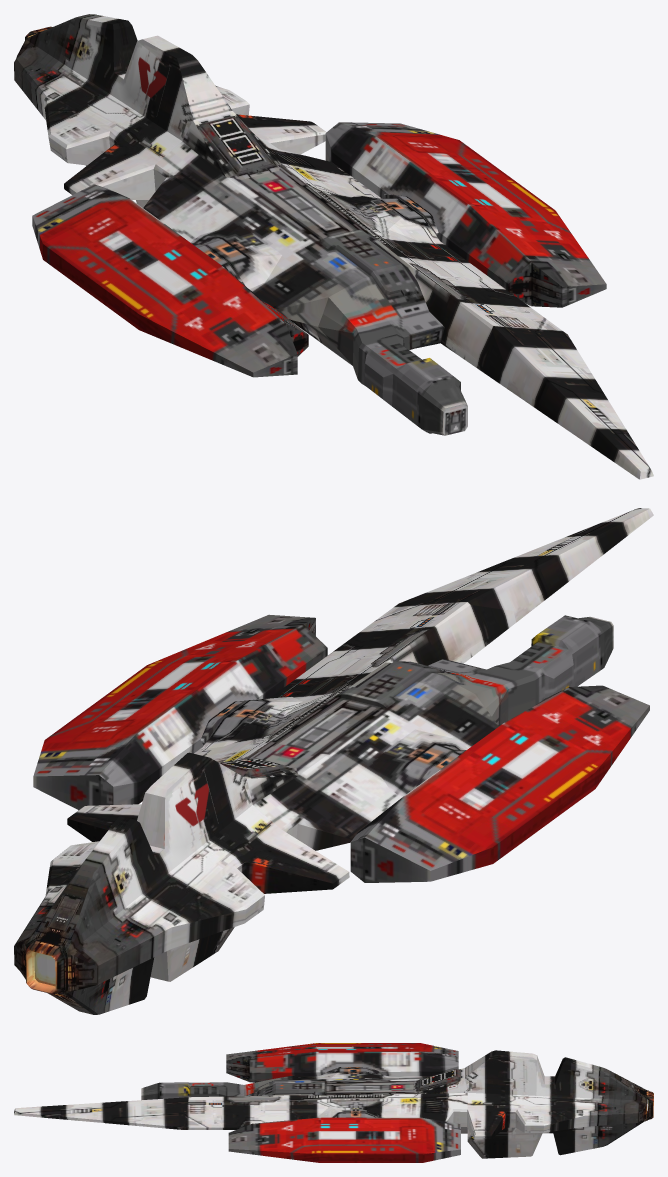
The model's file is vgr-bomber.glb.
3 renders of one model, top to bottom at view 1: azimuth 30°, elevation 25°; view 2: azimuth 150°, elevation 25°; view 3: azimuth 270°, elevation 25°, orthographic. The views are drawn at different scales.
Visible parts, largest first — view 1: Object_3, Object_5, Object_11, Object_10, Object_9, Object_6, Object_4, Object_2; view 2: Object_3, Object_11, Object_5, Object_10, Object_9, Object_6, Object_4, Object_2; view 3: Object_3, Object_10, Object_11, Object_9, Object_5, Object_6, Object_4.
Boxes of the visible parts, box(x1,y1,x2,y2) form: Object_3: box(14, 14, 567, 388); Object_5: box(143, 141, 467, 435); Object_11: box(32, 184, 308, 377); Object_10: box(325, 122, 606, 307); Object_9: box(492, 326, 653, 479); Object_6: box(191, 225, 460, 433); Object_4: box(25, 26, 440, 242); Object_2: box(130, 45, 169, 116); Object_3: box(14, 602, 516, 1014); Object_11: box(350, 685, 649, 882); Object_5: box(242, 616, 613, 850); Object_10: box(33, 614, 327, 810); Object_9: box(399, 508, 653, 622); Object_6: box(338, 615, 599, 796); Object_4: box(25, 696, 302, 994); Object_2: box(172, 771, 218, 845); Object_3: box(183, 1050, 647, 1158); Object_10: box(228, 1117, 460, 1162); Object_11: box(226, 1043, 458, 1082); Object_9: box(14, 1097, 188, 1129); Object_5: box(141, 1076, 431, 1100); Object_6: box(157, 1068, 387, 1098); Object_4: box(317, 1069, 653, 1120).
Bounding box in the file's own units: 13.78 × 6 × 33.51.
Materials: 11 (11 with a texture image).
